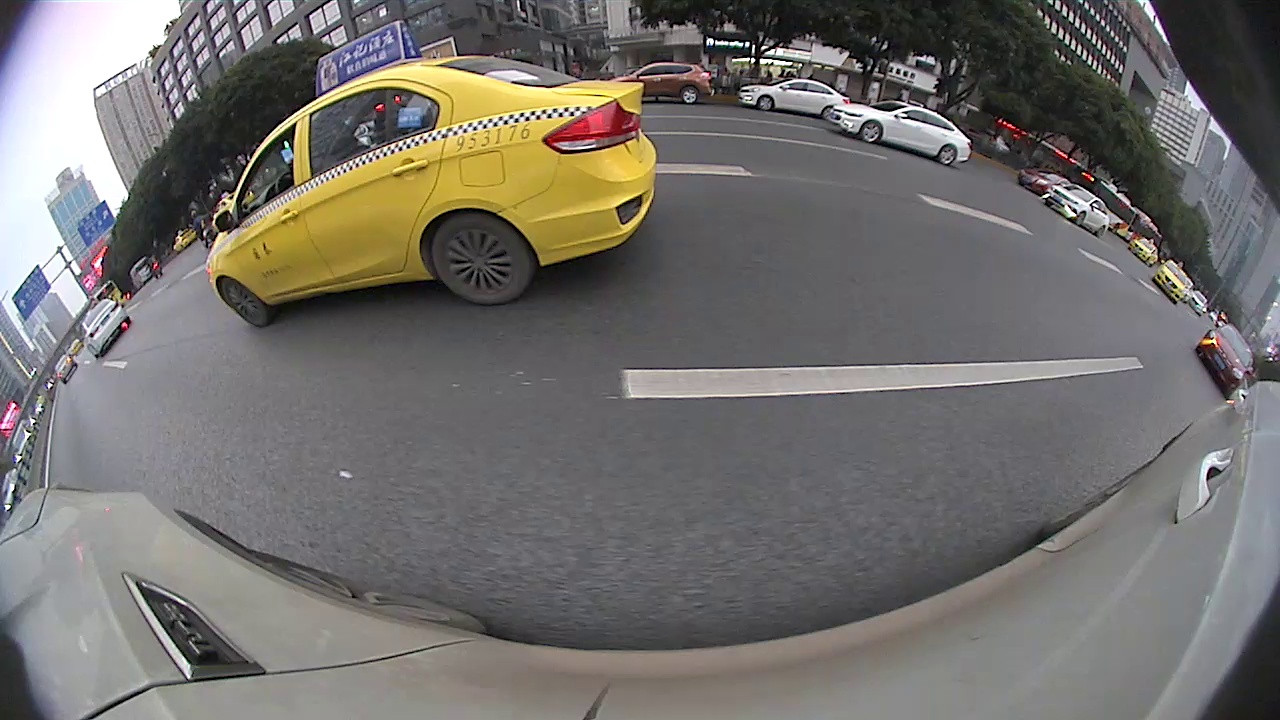car: (209, 18, 660, 329), (828, 99, 974, 168), (740, 79, 852, 124), (610, 61, 716, 105), (1196, 323, 1250, 400), (1045, 182, 1111, 236), (80, 297, 133, 361), (1151, 262, 1196, 307)
front: (215, 278, 271, 325), (862, 121, 881, 143), (759, 96, 774, 111)
rear: (431, 220, 530, 301), (939, 145, 956, 164), (682, 87, 699, 104)
